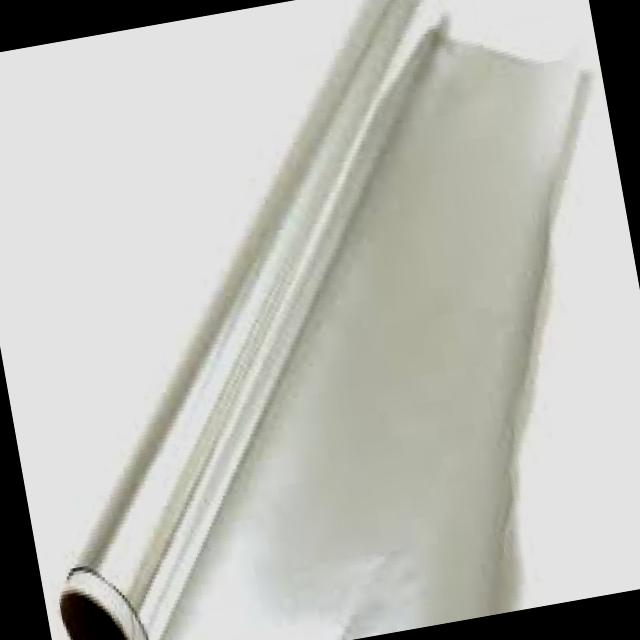metal: (61, 0, 442, 639)
